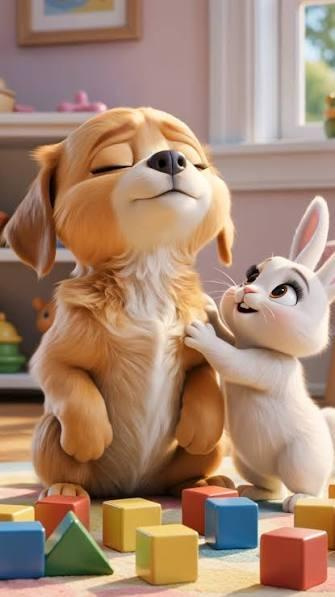adult_dog: (1, 105, 234, 503)
non-dog: (182, 194, 335, 513)
